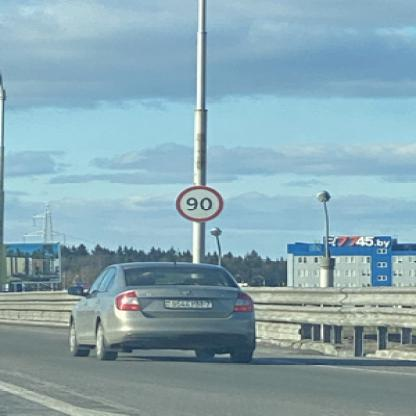speedlimit: (173, 185, 222, 222)
